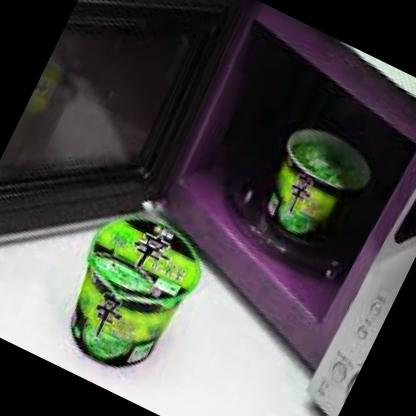Ramen: (37, 197, 222, 396), (238, 116, 400, 284)
